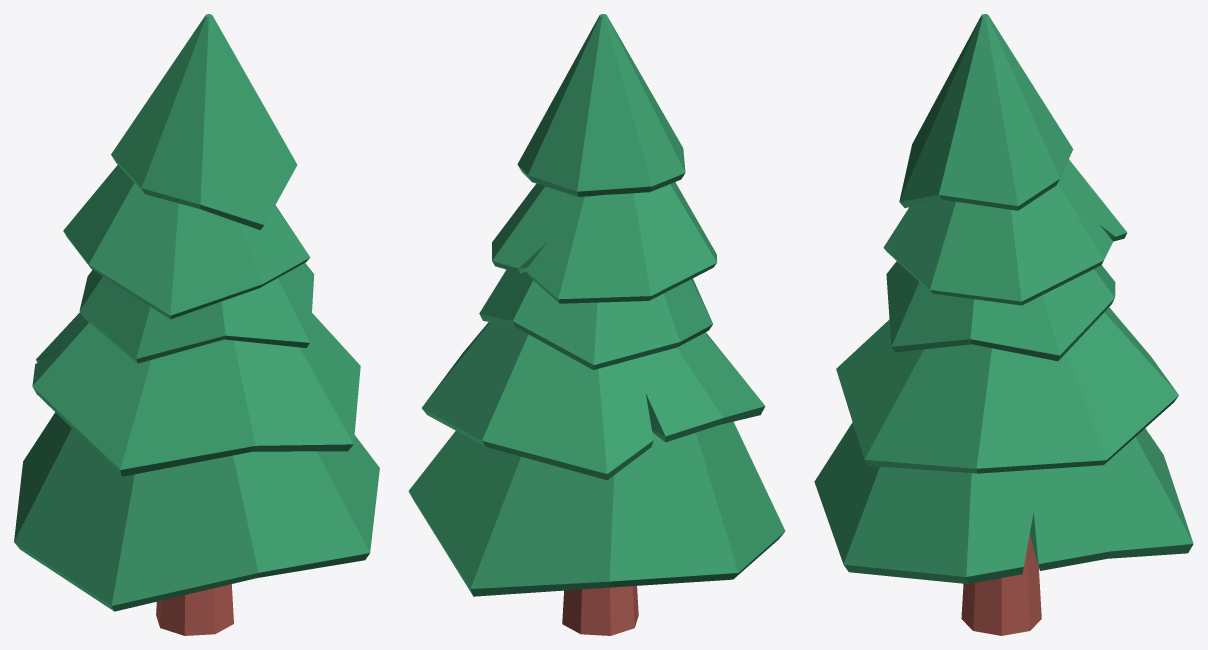
File: Tree2_summer.FBX
3 views of the same model, side by side, from view 1: azimuth 30°, elevation 25°; view 2: azimuth 150°, elevation 25°; view 3: azimuth 270°, elevation 25° (orthographic).
Parts seen in each view (by area): view 1: Tree 2 summer.001; view 2: Tree 2 summer.001; view 3: Tree 2 summer.001.
Part boxes in pixels (box(x1,y1,x2,y2)): Tree 2 summer.001: box(14, 14, 379, 635); Tree 2 summer.001: box(408, 14, 785, 635); Tree 2 summer.001: box(814, 14, 1193, 635).
Size of the model in its own units: 4.03 by 7.15 by 4.05.
